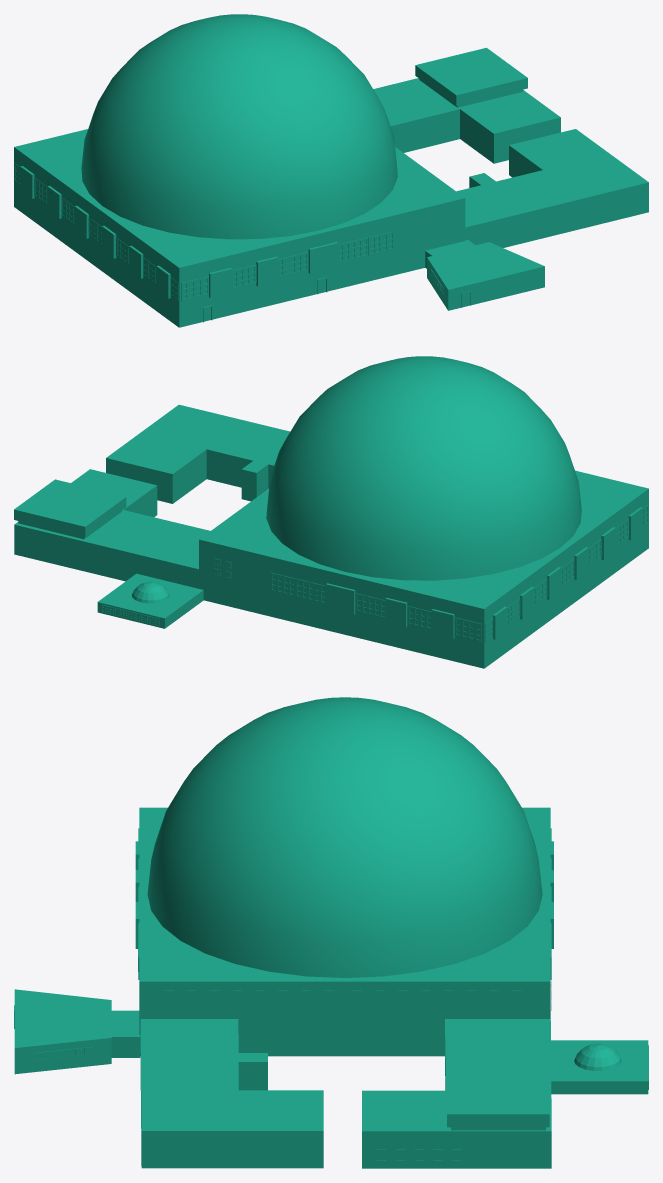
Rendered from Circus.obj.
3 renders of one model, top to bottom at view 1: azimuth 30°, elevation 25°; view 2: azimuth 150°, elevation 25°; view 3: azimuth 270°, elevation 25°, orthographic. The views are drawn at different scales.
Visible parts, largest first — view 1: Sphere001; view 2: Sphere001; view 3: Sphere001.
Boxes of the visible parts, box(x1,y1,x2,y2) form: Sphere001: box(14, 14, 648, 327); Sphere001: box(14, 356, 648, 668); Sphere001: box(14, 697, 648, 1168).
Bounding box in the file's own units: 82.98 × 34 × 77.15.
